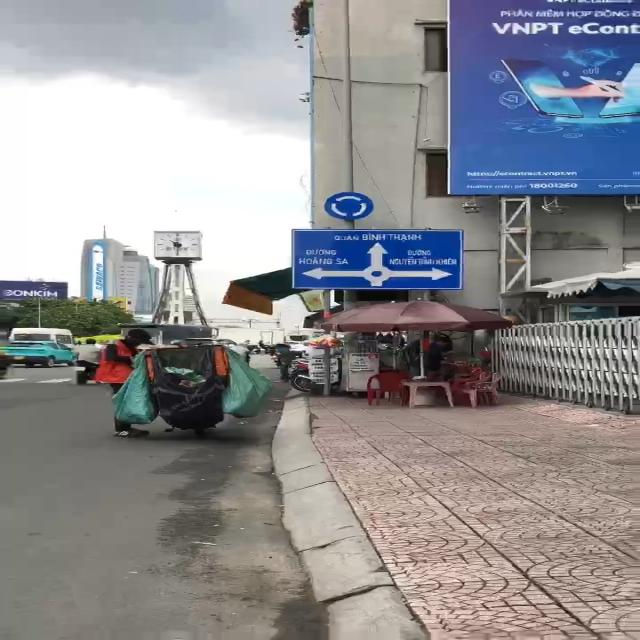Bien bao noi giao nhau chay theo vong xuyen: (319, 189, 380, 222)
